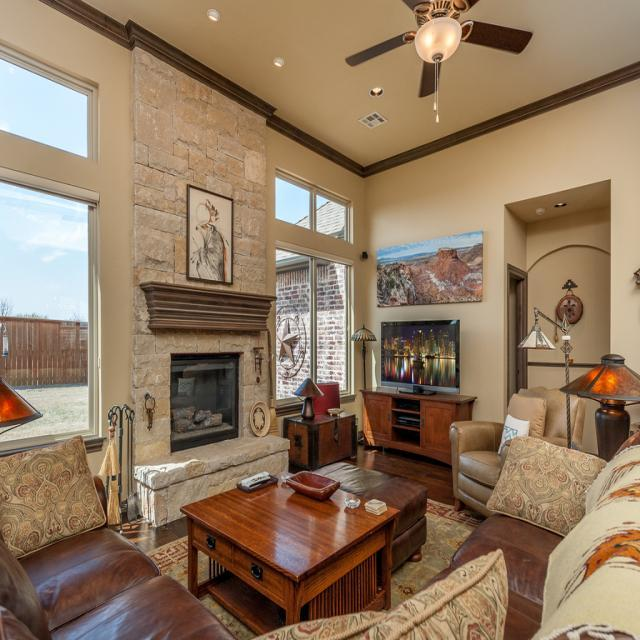fan_off: (344, 0, 532, 99)
